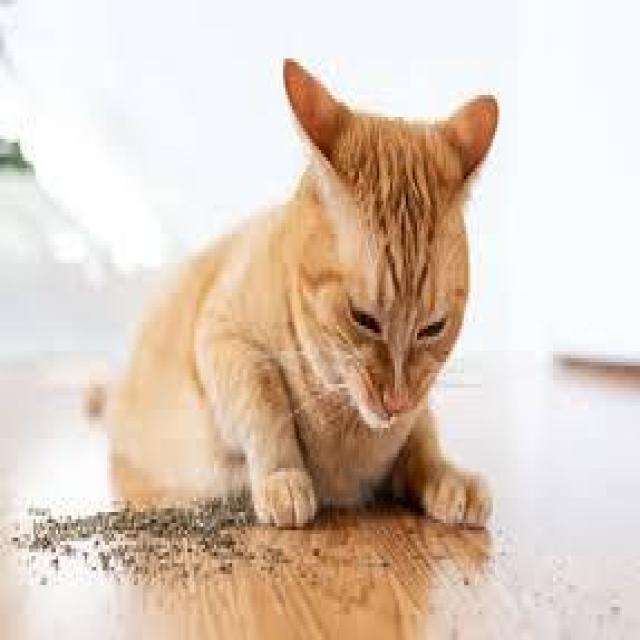Cat: (277, 44, 505, 442)
